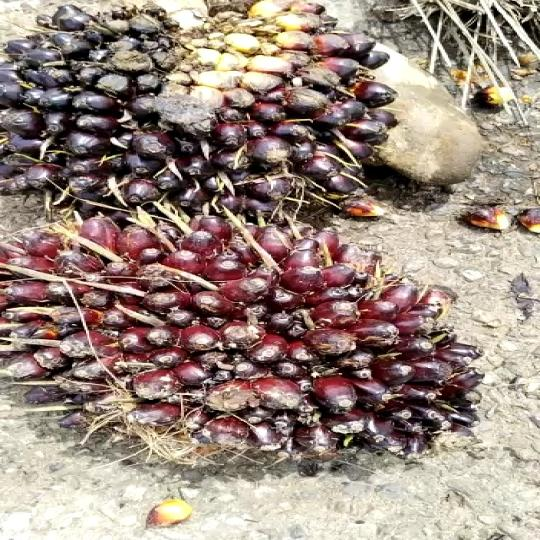mentah: (7, 198, 481, 472), (0, 0, 411, 224)
